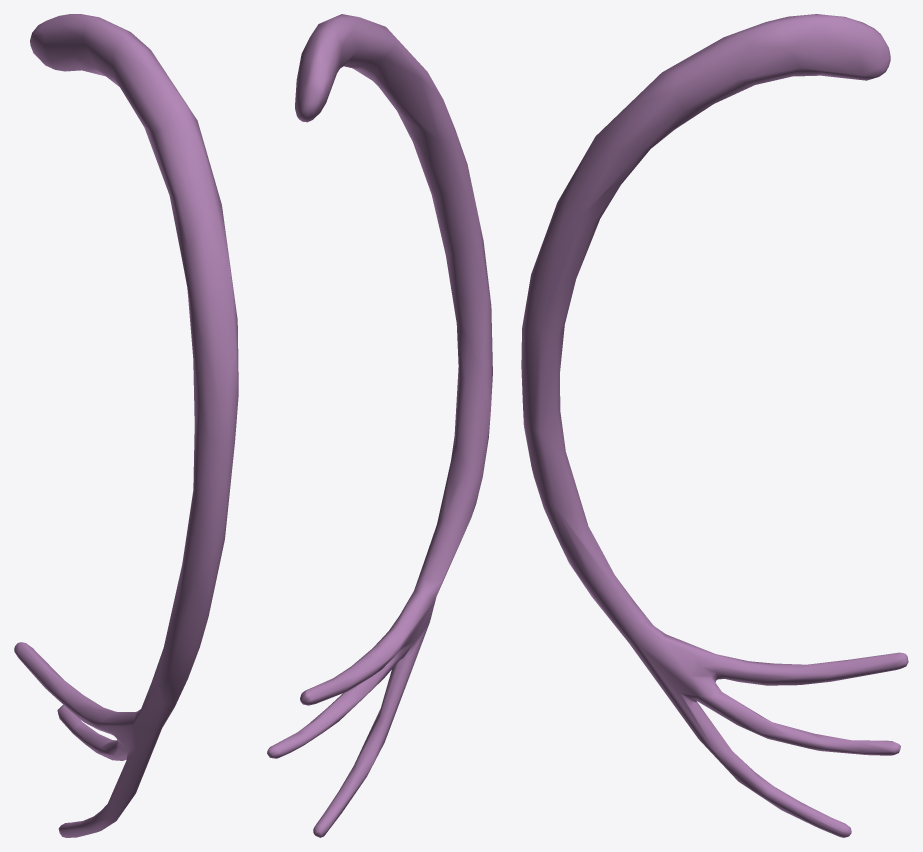
3 renders of one model, left to right at view 1: azimuth 30°, elevation 25°; view 2: azimuth 150°, elevation 25°; view 3: azimuth 270°, elevation 25°, orthographic. The views are drawn at different scales.
Parts seen in each view (by area): view 1: 左侧丘脑髓纹; view 2: 左侧丘脑髓纹; view 3: 左侧丘脑髓纹.
Boxes of the visible parts, x1=… form: 左侧丘脑髓纹: x1=14, y1=14, x2=238, y2=837; 左侧丘脑髓纹: x1=267, y1=14, x2=492, y2=837; 左侧丘脑髓纹: x1=521, y1=14, x2=908, y2=837.
Bounding box in the file's own units: 0.00543 × 0.0526 × 0.0223.
